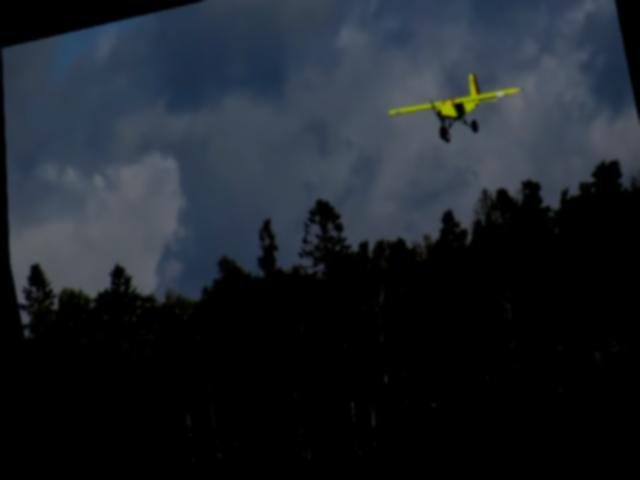plane: (382, 71, 529, 161)
